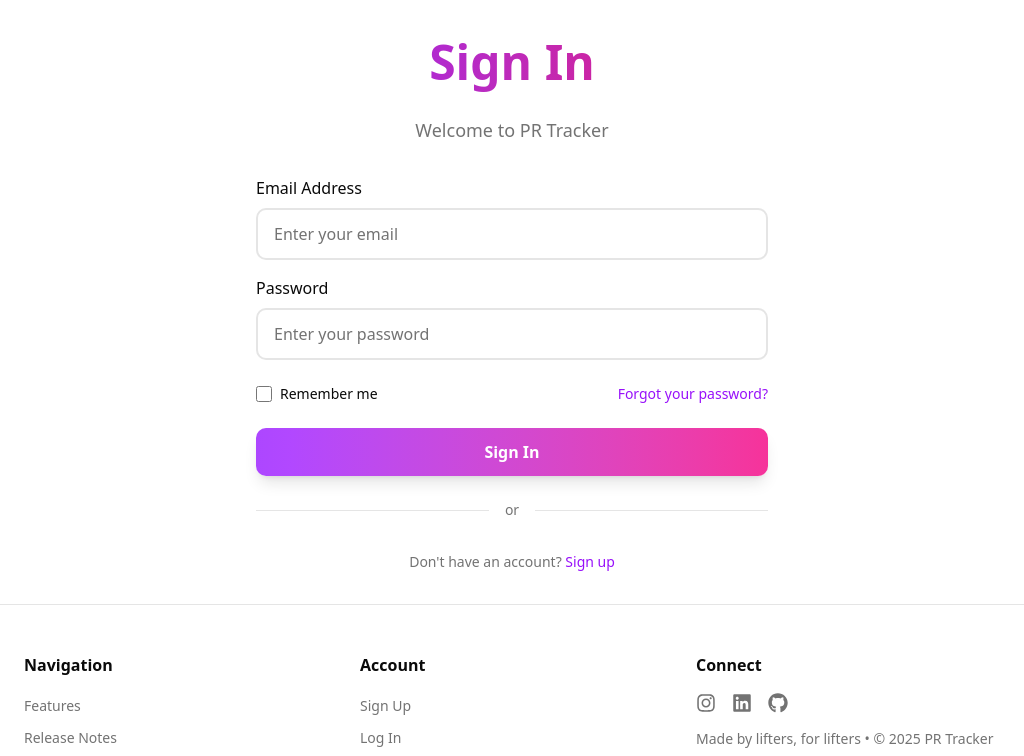
LoginPage › Error Handling › clears error message when form is resubmitted
Type "test@example.com" into the field labelled "Email Address" at (512, 234), box [256,208,768,260]
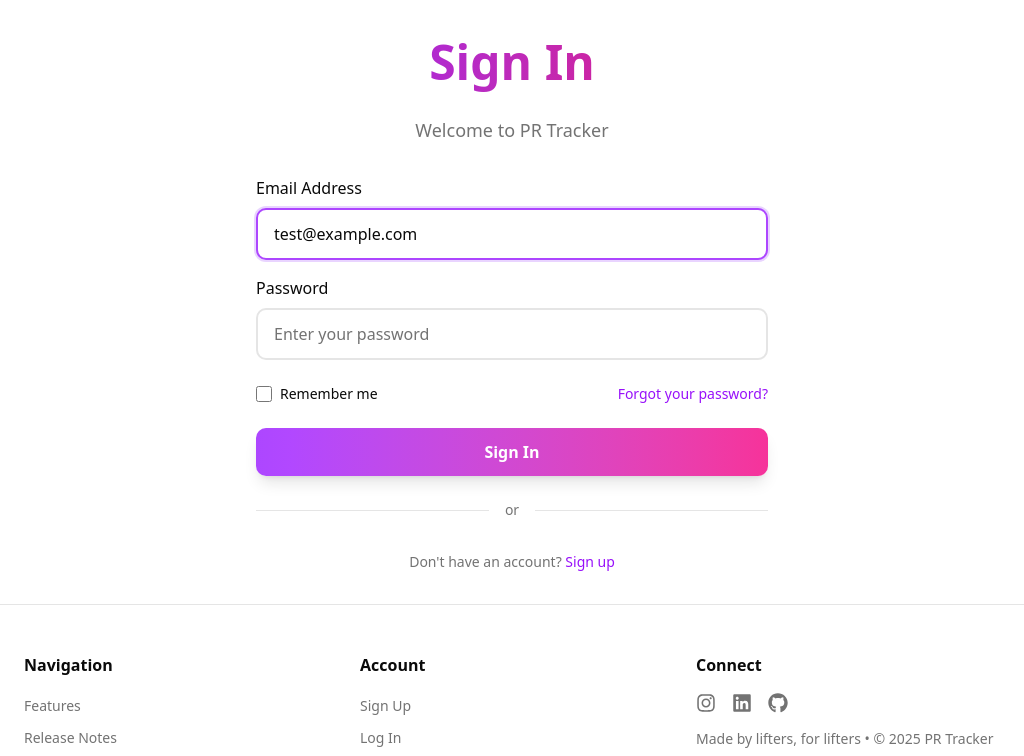
Type "wrongpassword" into the password field labelled "Password" at (512, 334), box [256,308,768,360]
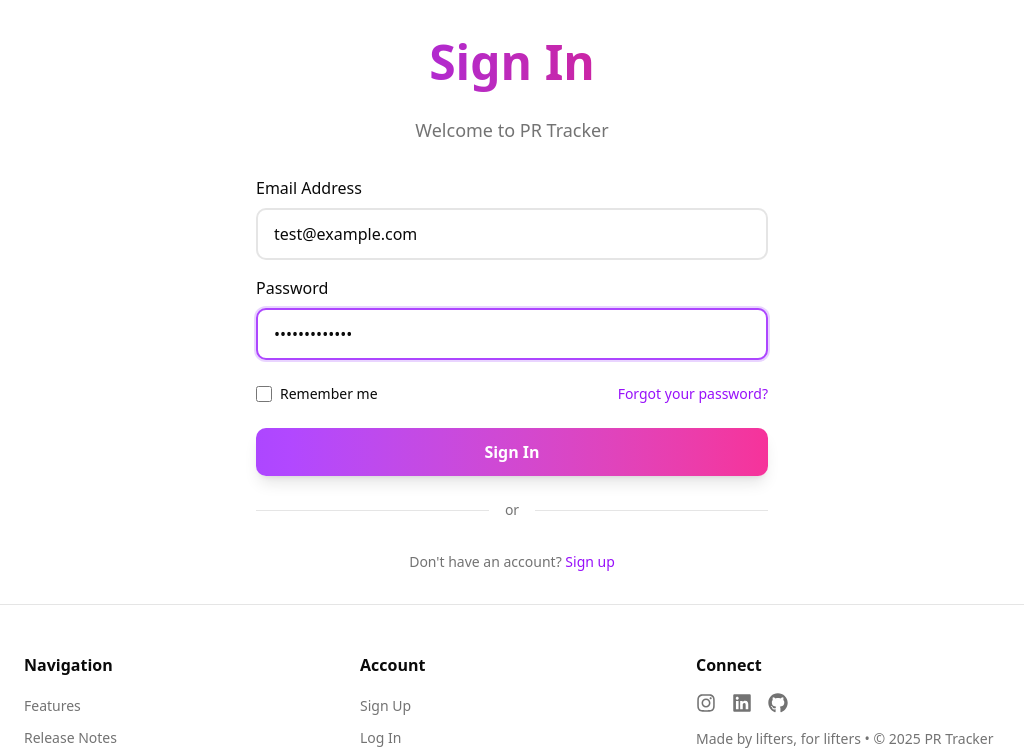
Click the button "Sign In" at (512, 452), box [256,428,768,476]
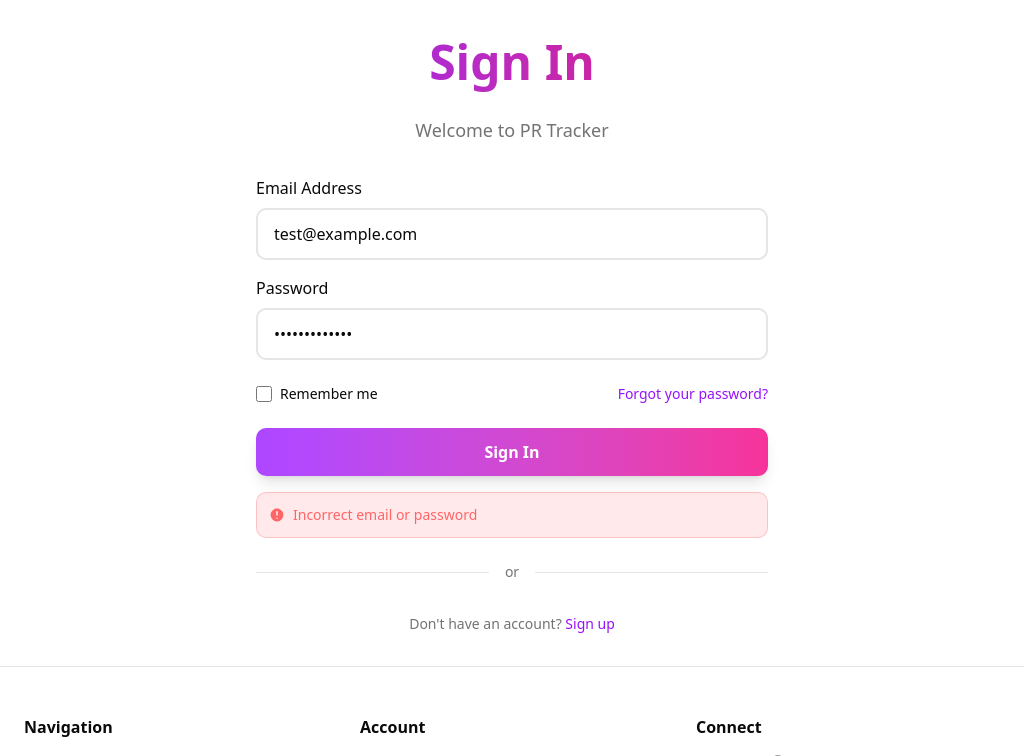
Expected: the text "Incorrect email or password" is shown, [269,505,477,524]
Click the button "Sign In" at (512, 452), box [256,428,768,476]
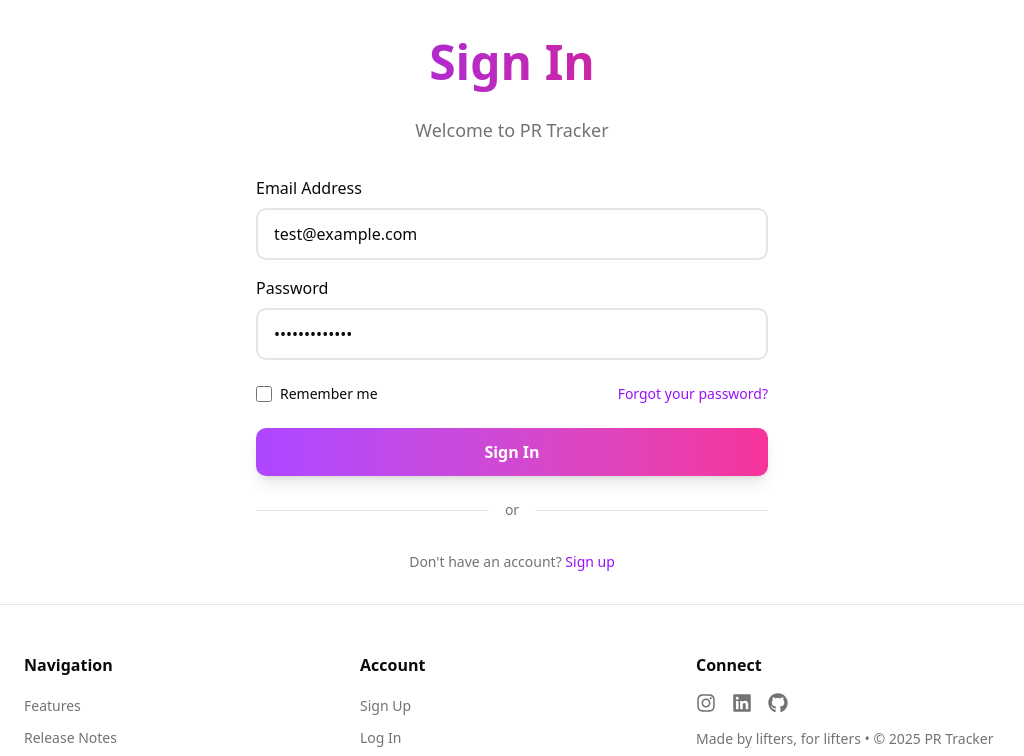
Expected: the text "Incorrect email or password" is gone
